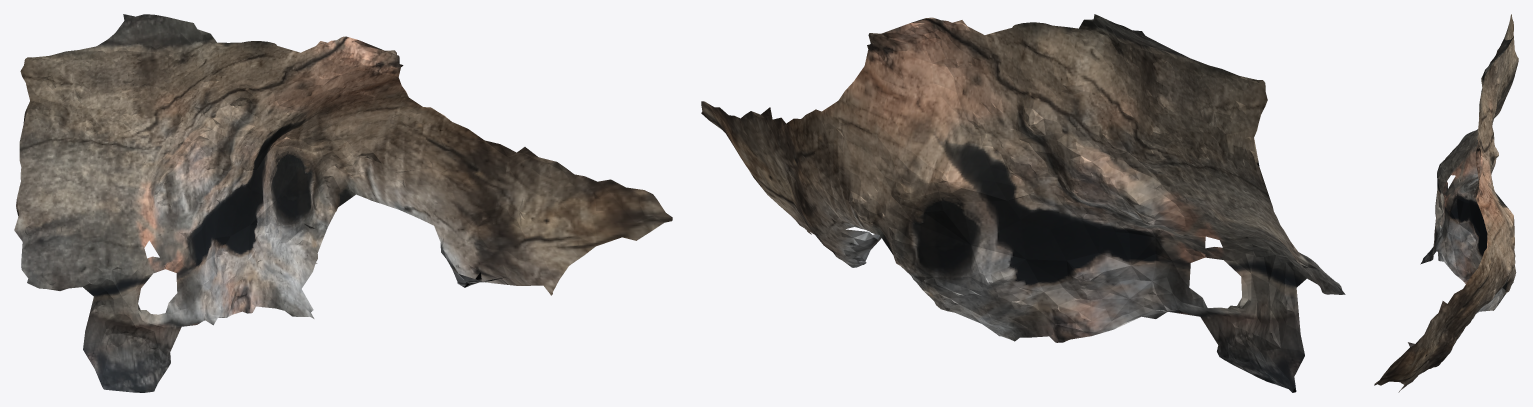
3 views of the same model, side by side, from view 1: azimuth 30°, elevation 25°; view 2: azimuth 150°, elevation 25°; view 3: azimuth 270°, elevation 25° (orthographic). The views are drawn at different scales.
Visible parts, largest first — view 1: TexturedMesh; view 2: TexturedMesh; view 3: TexturedMesh.
Boxes of the visible parts, x1,y1,x2,y2 form: TexturedMesh: (14, 14, 672, 392); TexturedMesh: (701, 14, 1345, 392); TexturedMesh: (1374, 14, 1518, 392).
Bounding box in the file's own units: 2.5 × 1.31 × 0.7164.
1 material, 1 textured.
